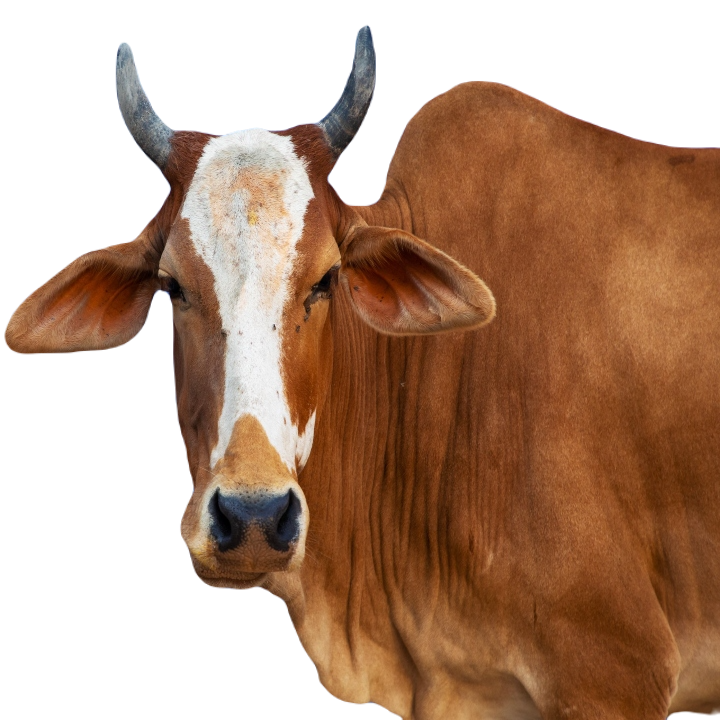Cow: (1, 23, 719, 719)
